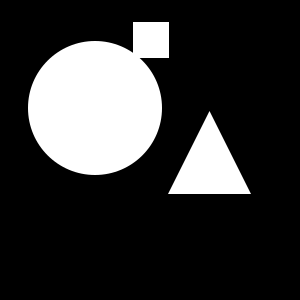circle: (133, 22, 169, 58)
rectangle: (28, 41, 162, 175)
triangle: (168, 111, 251, 194)
